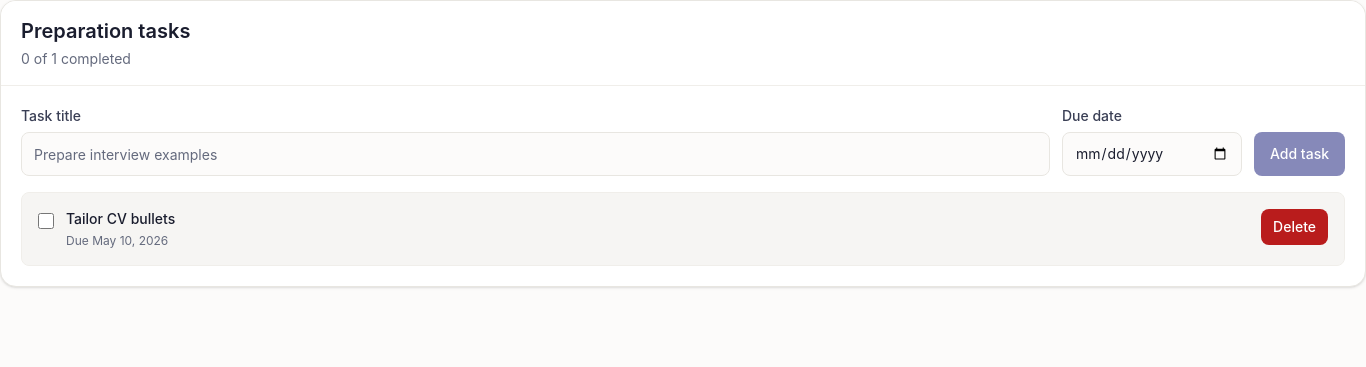
Test case: JobDetailTasksPanel › clears a stale mutation error once a later write succeeds
Type "Another task" into the field labelled "Task title" at (536, 154), box [21,132,1050,176]
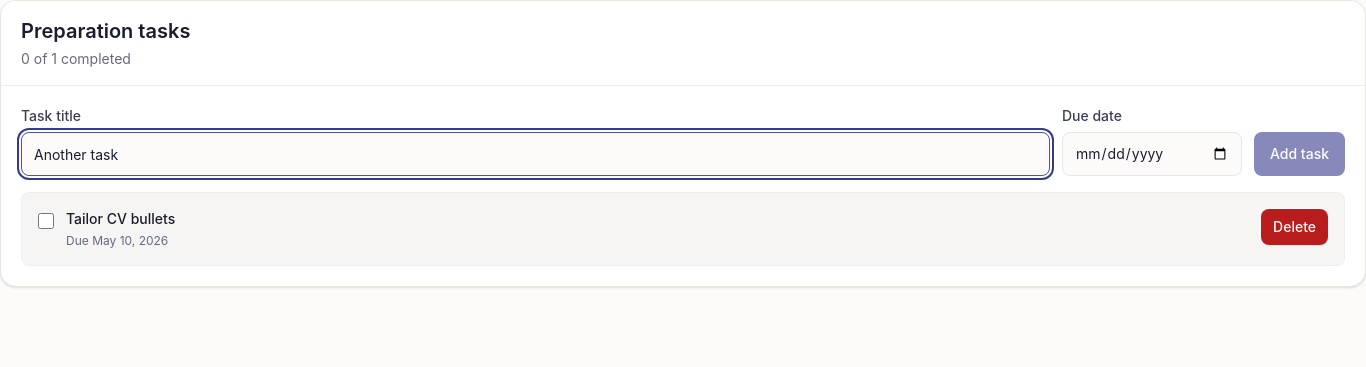
Type "2026-06-20" into the date field labelled "Due date" at (1152, 154), box [1062,132,1242,176]
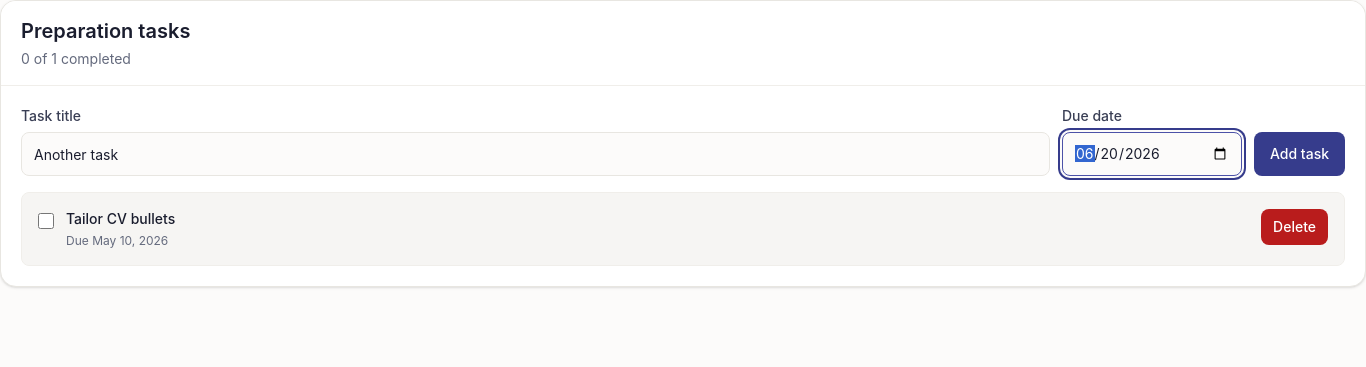
Click the button "Add task" at (1300, 154), box [1254,132,1345,176]
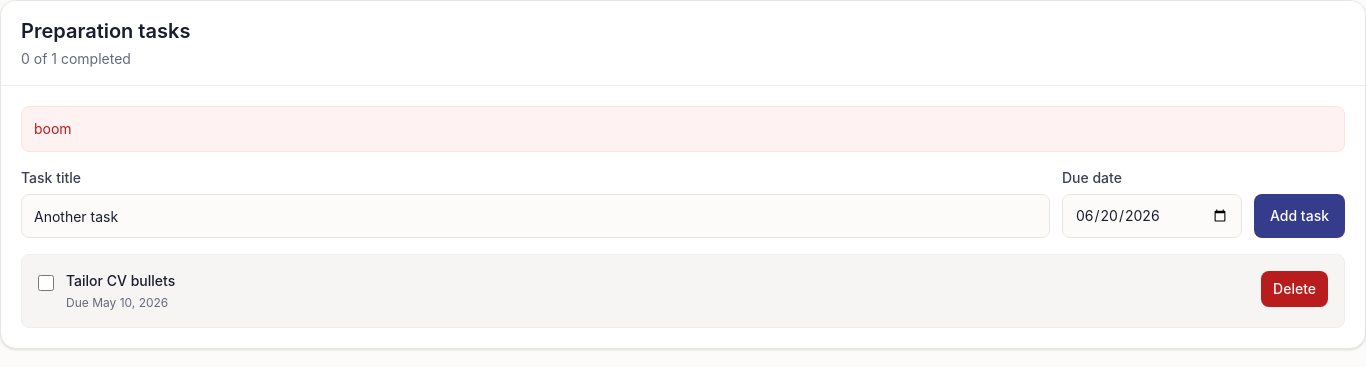
Now the message "boom" is shown, box [21,106,1345,152]
Click the checkbox named "Tailor CV bullets" at (46, 283), box [38,275,54,291]
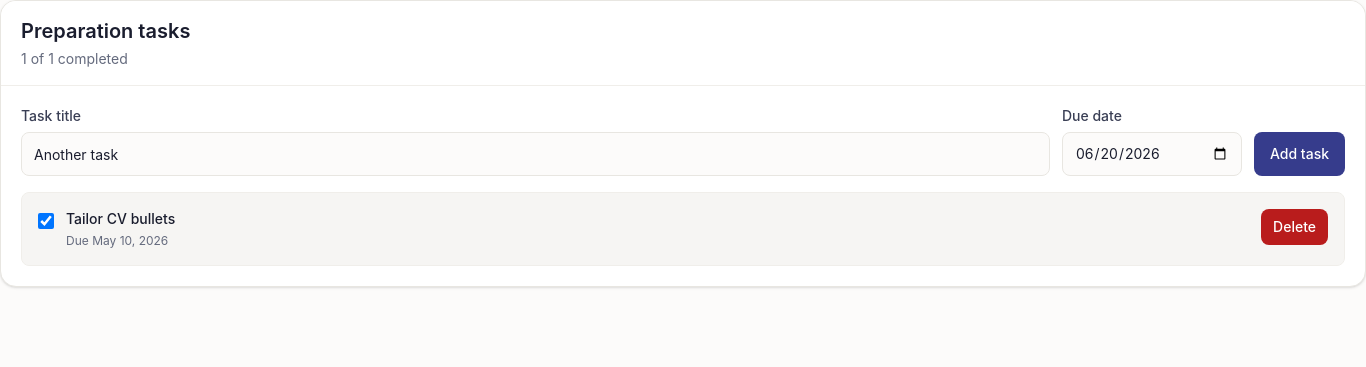
Now the message "boom" is gone
